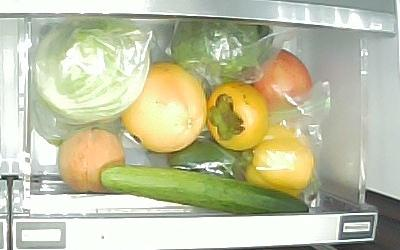apple: (254, 48, 314, 113)
broccoli_vinyl: (170, 20, 275, 82)
cucumber: (100, 165, 310, 214)
grapefruit: (121, 62, 209, 154)
lettuce_vinyl: (34, 21, 149, 124)
paprika_vinyl: (234, 120, 318, 193), (167, 133, 254, 181)
peach: (57, 127, 125, 194)
persimmon: (207, 80, 271, 152)
